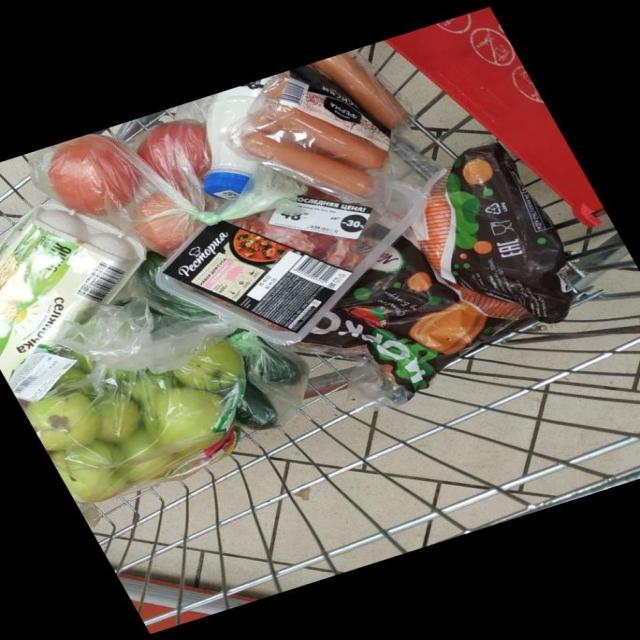apple: (101, 225, 325, 632), (123, 178, 346, 519), (90, 229, 264, 640), (91, 199, 263, 572), (72, 204, 200, 601), (70, 249, 183, 640), (50, 207, 137, 602)
carrot: (217, 132, 640, 358)
cucumber: (138, 200, 388, 583), (122, 179, 375, 553), (74, 154, 262, 473)
egg: (0, 204, 21, 558)
milk: (99, 99, 337, 296)
tomato: (96, 119, 294, 340), (89, 80, 288, 257), (46, 106, 170, 313)
